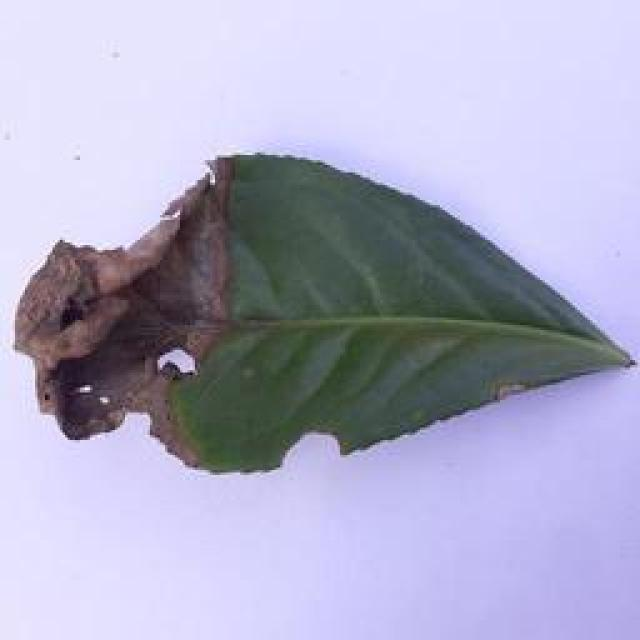Brown Blight: (2, 145, 630, 474)
